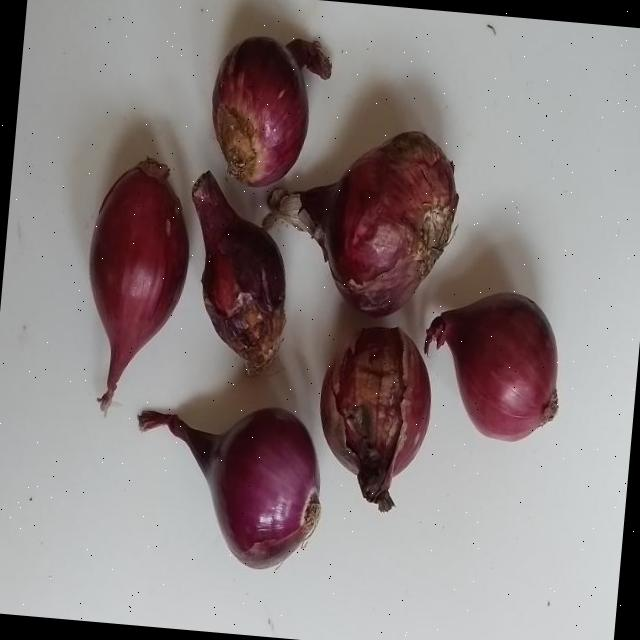Onion: (262, 129, 458, 315), (137, 407, 319, 568), (88, 155, 188, 410), (320, 326, 431, 510), (425, 291, 558, 440), (191, 169, 285, 374), (212, 34, 331, 185)
